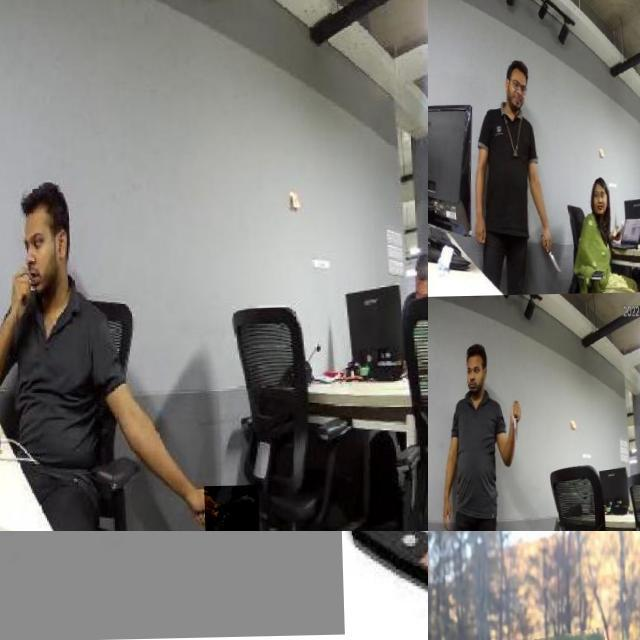-: (0, 531, 341, 640), (200, 486, 255, 531), (540, 246, 561, 278), (428, 161, 436, 205), (508, 412, 518, 442), (428, 415, 434, 452)
